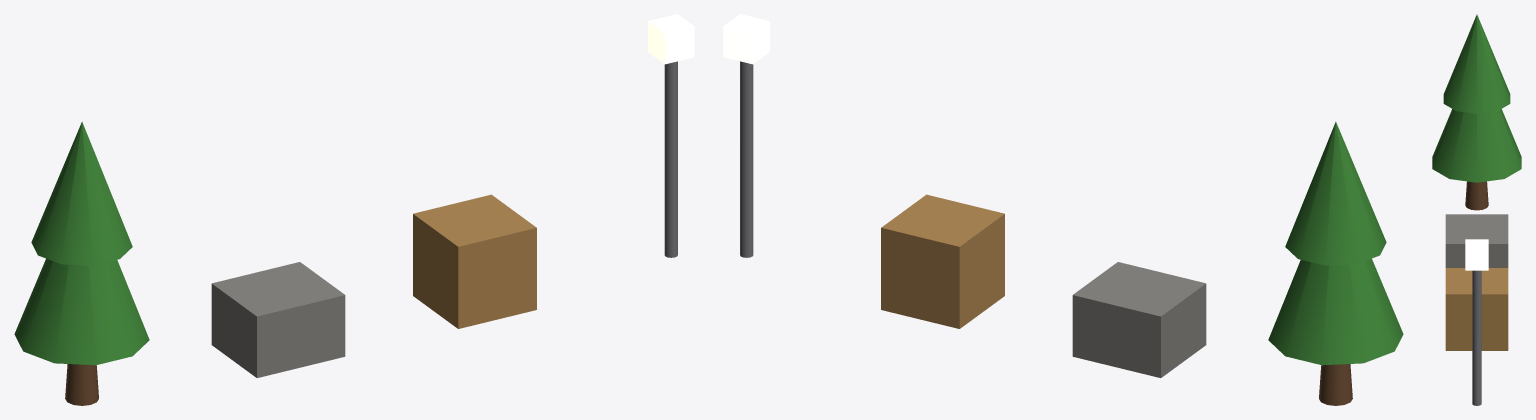
File: kit.glb
The picture shows the model from 3 angles, left to right: view 1: azimuth 30°, elevation 25°; view 2: azimuth 150°, elevation 25°; view 3: azimuth 270°, elevation 25°; orthographic projection. The views are drawn at different scales.
Parts seen in each view (by area): view 1: Tree, Crate, Rock, Lamp_Post, Bulb; view 2: Tree, Crate, Rock, Lamp_Post, Bulb; view 3: Tree, Crate, Rock, Lamp_Post, Bulb.
Boxes of the visible parts, x1,y1,x2,y2 form: Tree: [14, 121, 149, 405]; Crate: [413, 194, 536, 328]; Rock: [211, 262, 345, 377]; Lamp_Post: [664, 61, 677, 257]; Bulb: [648, 14, 694, 64]; Tree: [1268, 121, 1403, 405]; Crate: [881, 194, 1004, 328]; Rock: [1072, 262, 1206, 377]; Lamp_Post: [740, 61, 753, 257]; Bulb: [723, 14, 769, 64]; Tree: [1432, 14, 1521, 210]; Crate: [1445, 268, 1508, 350]; Rock: [1445, 214, 1508, 267]; Lamp_Post: [1472, 270, 1481, 405]; Bulb: [1465, 239, 1488, 270].
Size of the model in its own units: 6.75 by 2.7 by 1.14.
